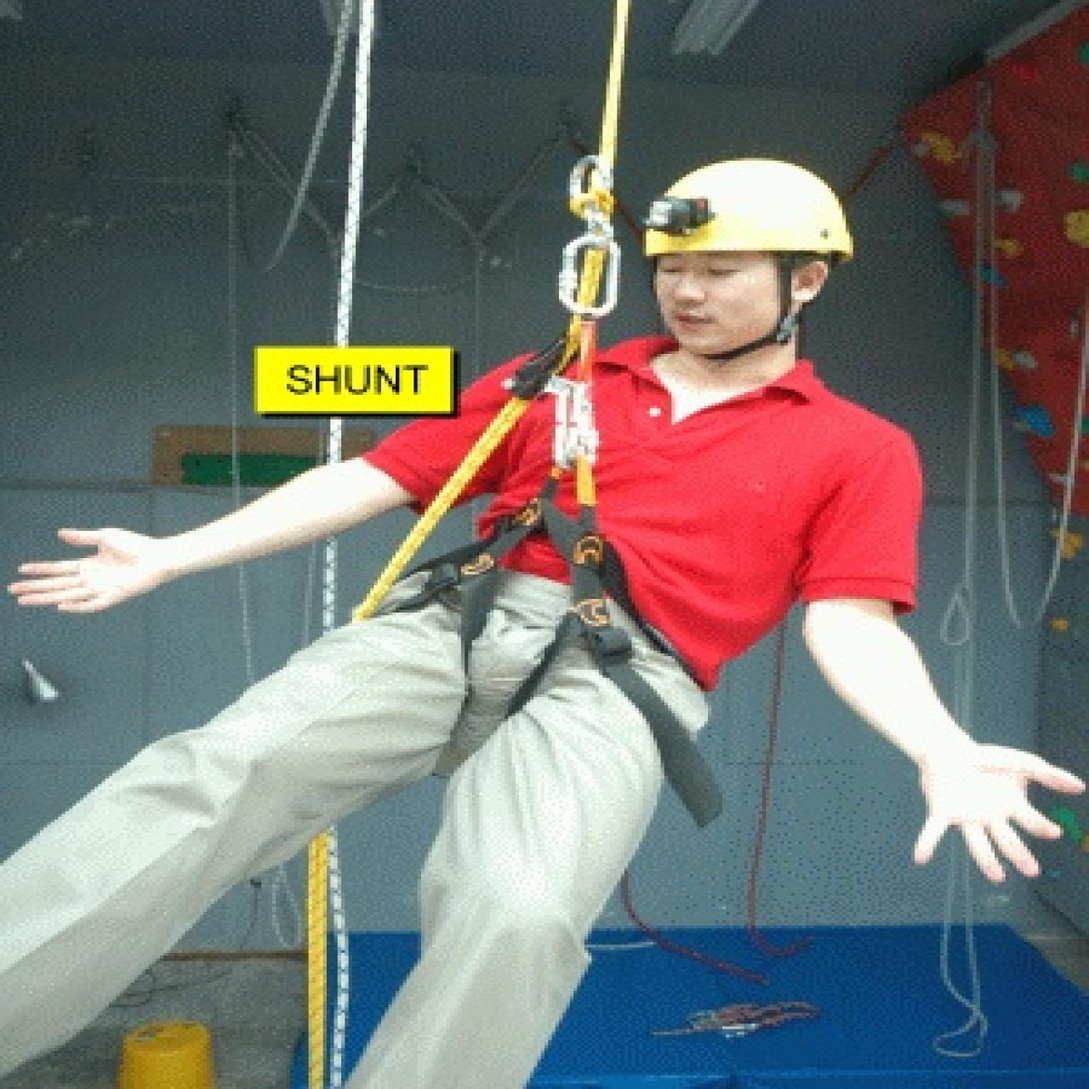NO_Safety_Vest: (373, 329, 949, 704)
Person: (0, 144, 1085, 1086)
